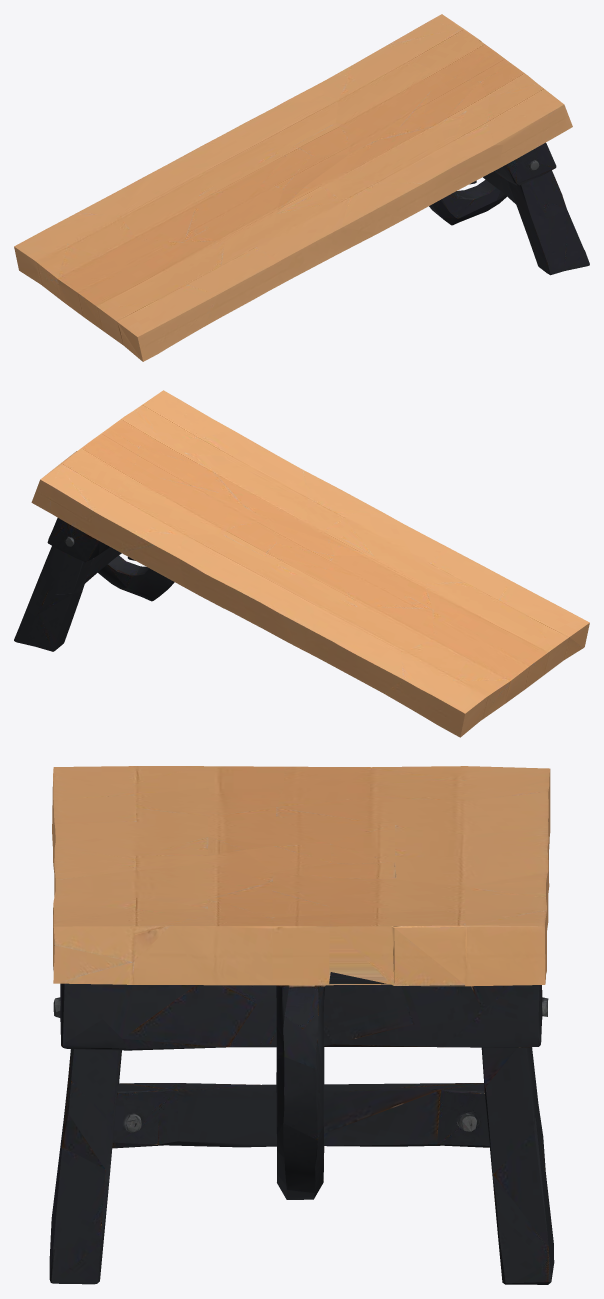
File: cornboard.glb
3 views of the same model, one above another, from view 1: azimuth 30°, elevation 25°; view 2: azimuth 150°, elevation 25°; view 3: azimuth 270°, elevation 25° (orthographic). The views are drawn at different scales.
Bounding box in the file's own units: 1.9 × 0.6679 × 0.9064.
1 material, 1 textured.
